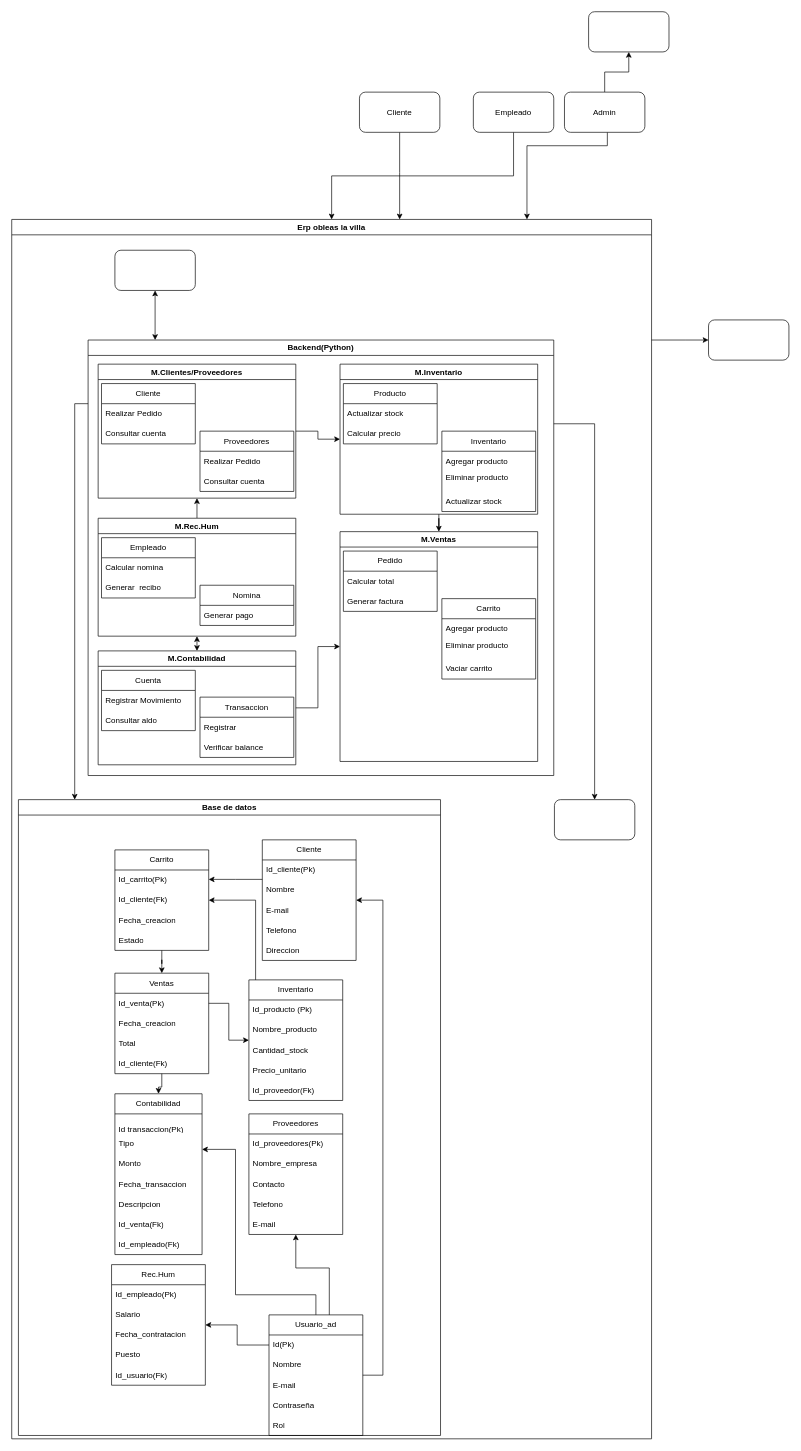
The diagram is 801 pixels wide and 1451 high, and some of its shapes have lost their labels. The centre of each missing label's shape, as x and y in pixels:
Aplicacion web: (154,270)
Banco: (628,31)
Modulo pagos: (594,819)
Proveedor: (748,339)
